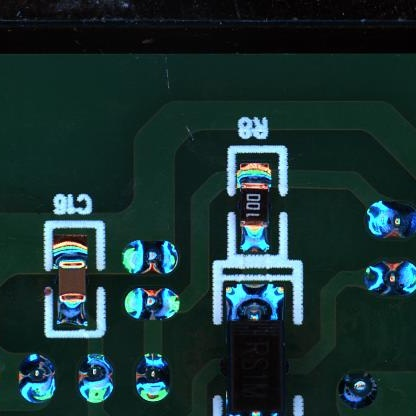spot: (365, 198, 416, 240), (361, 260, 416, 297), (17, 352, 56, 404), (123, 287, 180, 322), (123, 241, 177, 274), (78, 352, 113, 402), (134, 354, 172, 400), (338, 370, 381, 407)
